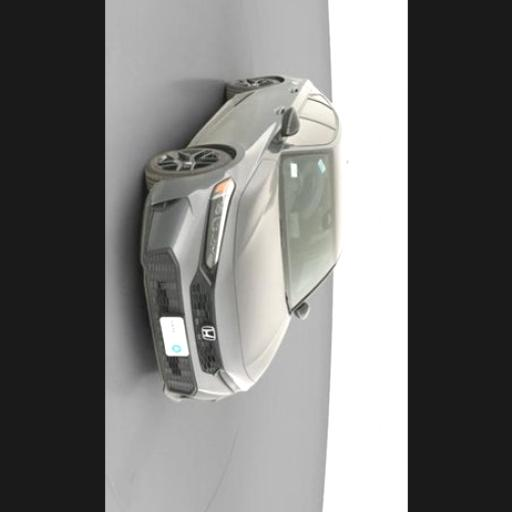hatchback: (143, 76, 345, 400)
